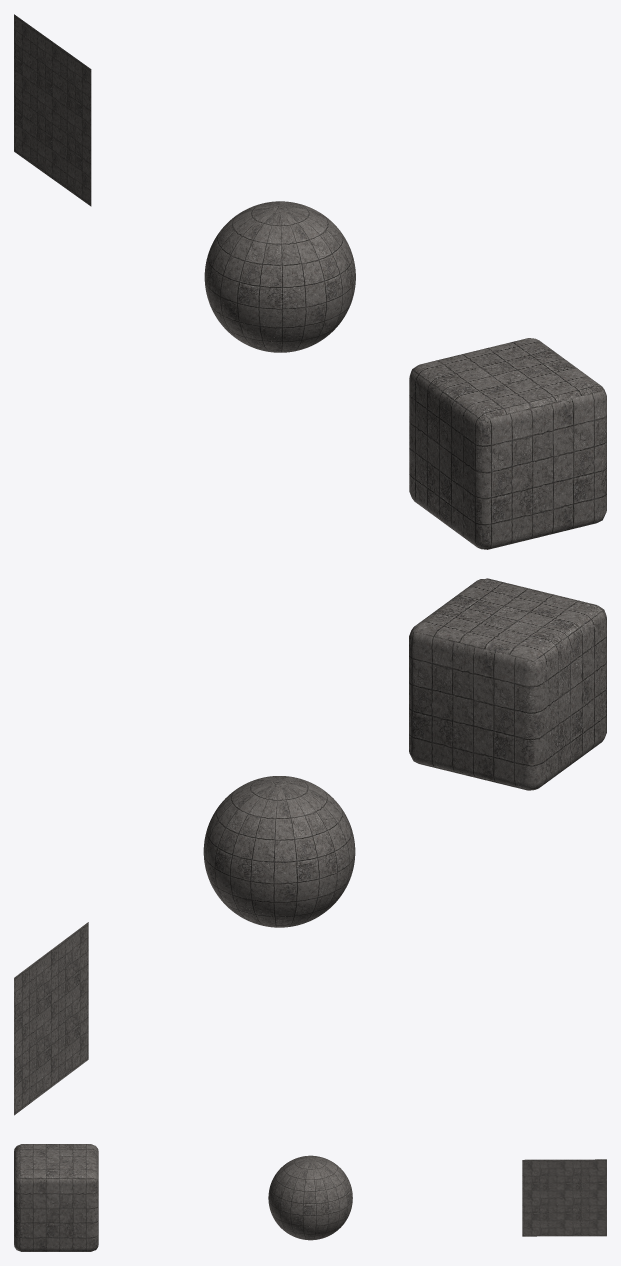
The model's file is damaged_concrete_tiles__tile_texture.glb.
The picture shows the model from 3 angles, top to bottom: view 1: azimuth 30°, elevation 25°; view 2: azimuth 150°, elevation 25°; view 3: azimuth 270°, elevation 25°; orthographic projection. The views are drawn at different scales.
Visible parts, largest first — view 1: Cube_Material.001_0, Sphere_Material.001_0 (×7), Plane_Material.001_0; view 2: Cube_Material.001_0, Sphere_Material.001_0 (×6), Plane_Material.001_0; view 3: Cube_Material.001_0, Plane_Material.001_0, Sphere_Material.001_0 (×8).
Boxes of the visible parts, x1=… form: Cube_Material.001_0: x1=409, y1=338, x2=606, y2=549; Sphere_Material.001_0 (×7): x1=204, y1=201, x2=355, y2=352; Plane_Material.001_0: x1=14, y1=14, x2=91, y2=206; Cube_Material.001_0: x1=409, y1=578, x2=606, y2=790; Sphere_Material.001_0 (×6): x1=204, y1=776, x2=355, y2=927; Plane_Material.001_0: x1=14, y1=922, x2=88, y2=1115; Cube_Material.001_0: x1=14, y1=1144, x2=98, y2=1251; Plane_Material.001_0: x1=522, y1=1159, x2=606, y2=1236; Sphere_Material.001_0 (×8): x1=268, y1=1155, x2=352, y2=1240.
Bounding box in the file's own units: 2 × 2 × 14.01.
1 material, 1 textured.
